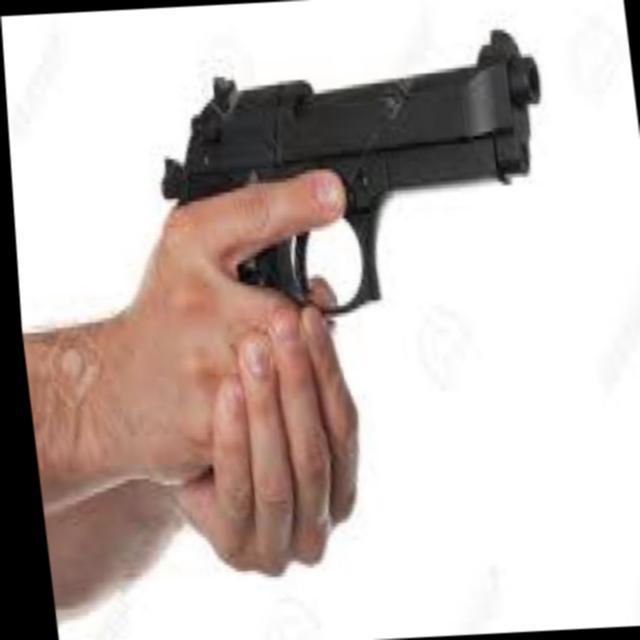weapon: (140, 24, 562, 326)
